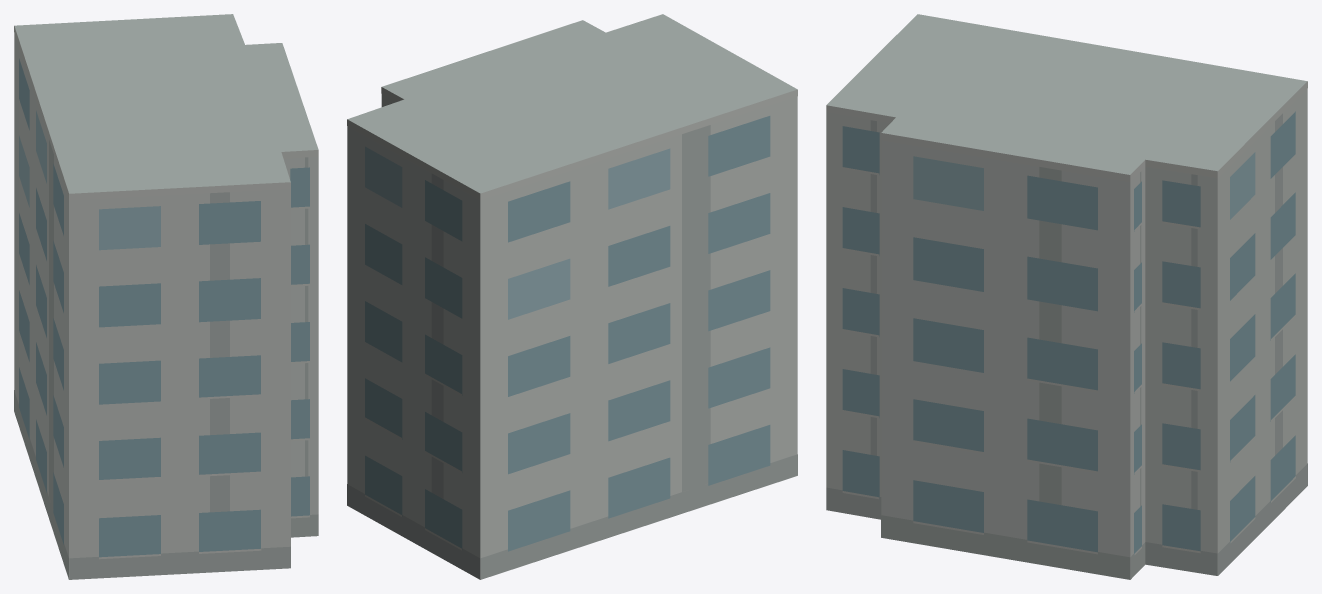
File: survey-upis-32971408.glb
The picture shows the model from 3 angles, left to right: view 1: azimuth 30°, elevation 25°; view 2: azimuth 150°, elevation 25°; view 3: azimuth 270°, elevation 25°; orthographic projection. The views are drawn at different scales.
Visible parts, largest first — view 1: survey-upis-32971408.tmp; view 2: survey-upis-32971408.tmp; view 3: survey-upis-32971408.tmp.
Boxes of the visible parts, left/top/right/bottom form: survey-upis-32971408.tmp: left=14, top=14, right=318, bottom=579; survey-upis-32971408.tmp: left=347, top=14, right=797, bottom=579; survey-upis-32971408.tmp: left=826, top=14, right=1307, bottom=579.
Size of the model in its own units: 11.78 by 13.8 by 14.88.
